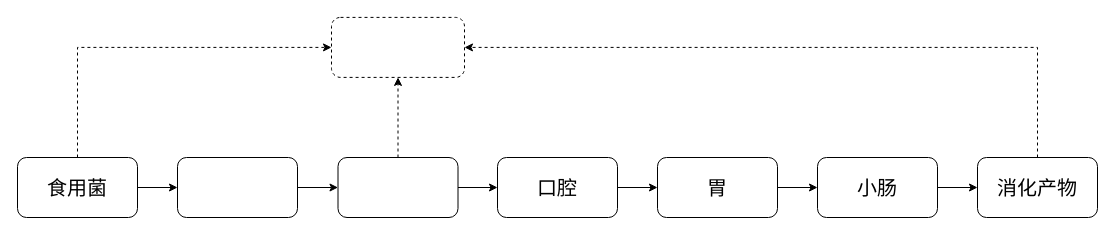
The diagram is 1115 pixels wide and 236 high, and some of its shapes have lost their labels. Each missing label, with the centre of its shape:
加工后产物: the point at 397,187
加工处理: the point at 237,187
营养成分分析: the point at 397,46
